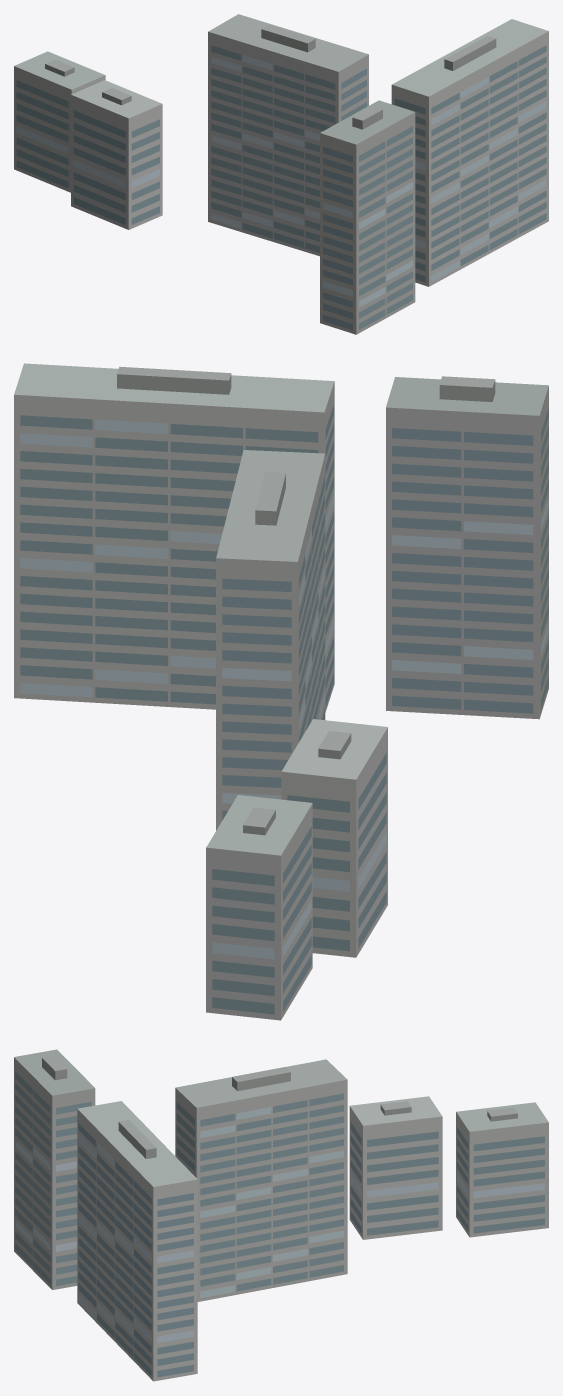
Rendered from apt-a14206301.glb.
The picture shows the model from 3 angles, top to bottom: view 1: azimuth 30°, elevation 25°; view 2: azimuth 150°, elevation 25°; view 3: azimuth 270°, elevation 25°; orthographic projection. The views are drawn at different scales.
Parts seen in each view (by area): view 1: apt-a14206301; view 2: apt-a14206301; view 3: apt-a14206301.
Part boxes in pixels (box(x1,y1,x2,y2)): apt-a14206301: box(14, 14, 548, 334); apt-a14206301: box(14, 363, 548, 1020); apt-a14206301: box(14, 1049, 548, 1381).
Bounding box in the file's own units: 84.13 × 46 × 110.
